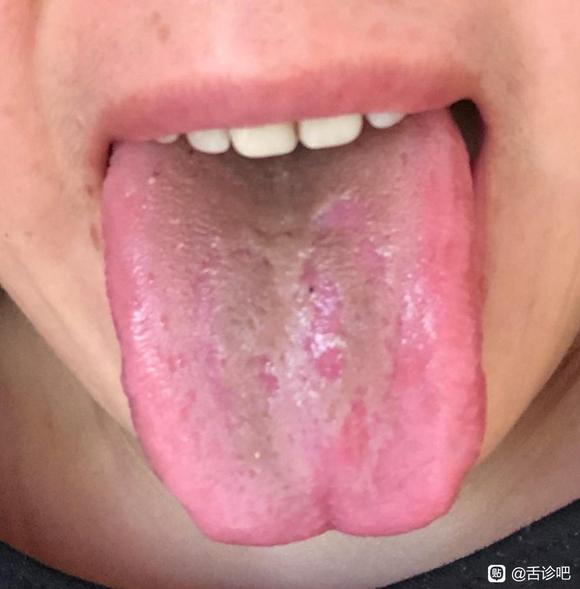botaishe: (289, 185, 399, 388)
heitaishe: (100, 109, 489, 545)
hongshe: (100, 109, 489, 545)
xinfeiao: (257, 498, 387, 546)
